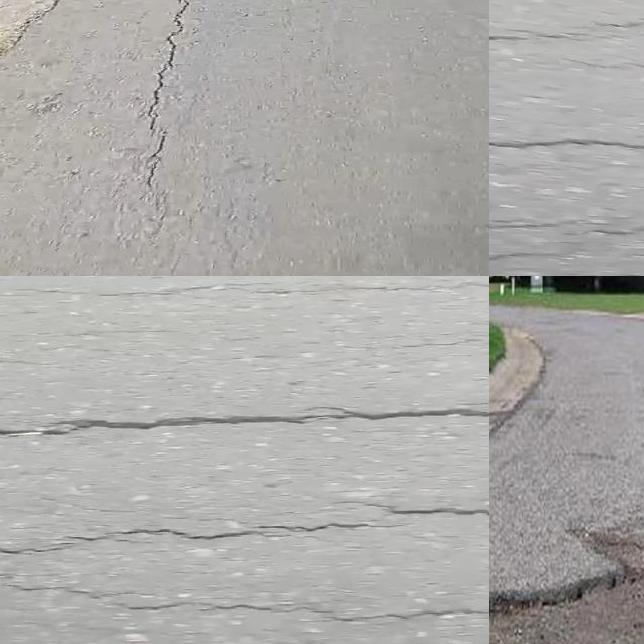Lubang: (489, 571, 644, 644)
Melintang: (0, 498, 489, 567), (0, 390, 489, 452), (489, 9, 644, 58), (489, 125, 644, 167)
Memanjang: (125, 0, 207, 207)
